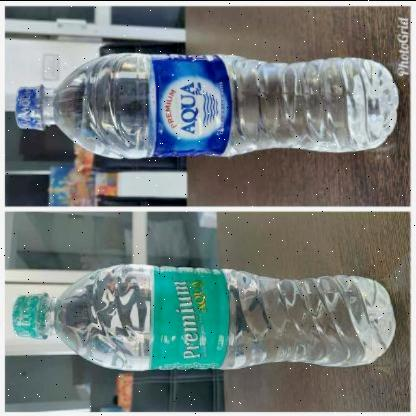Plastic Bottle: (12, 261, 398, 371), (14, 53, 402, 155)
